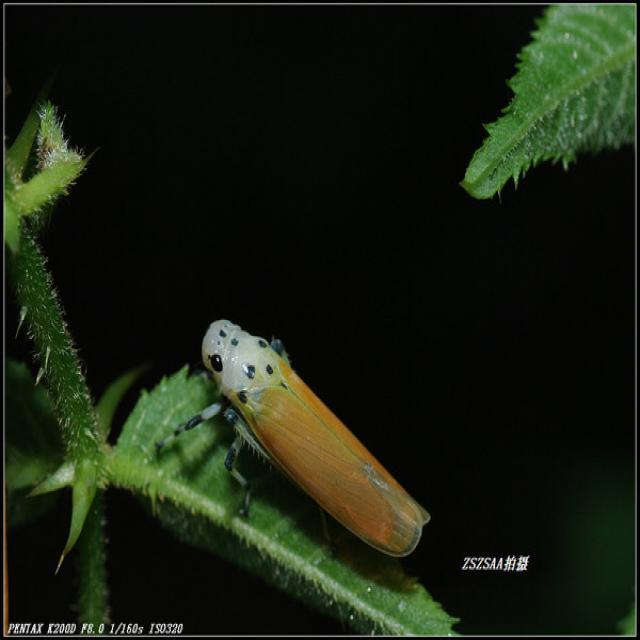Yechan: (176, 294, 435, 566)
